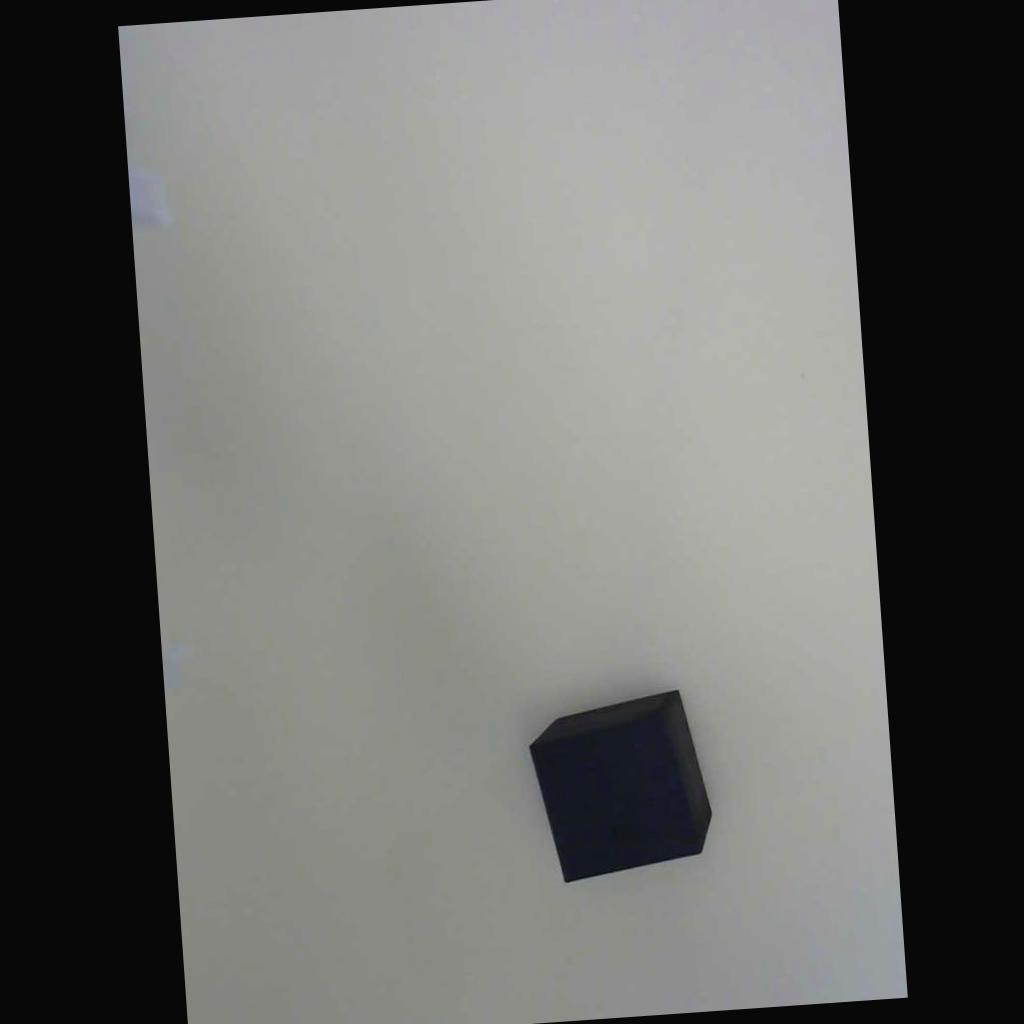square: (501, 666, 743, 913)
